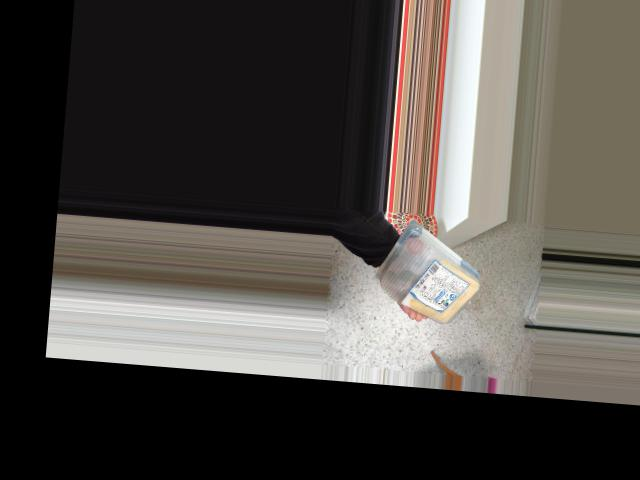cheese: (382, 233, 482, 325)
